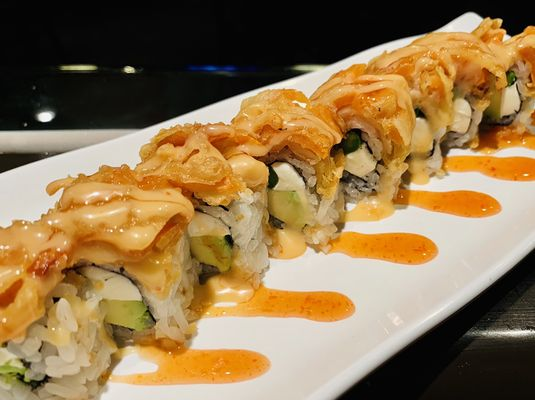curry: (0, 5, 535, 396)
